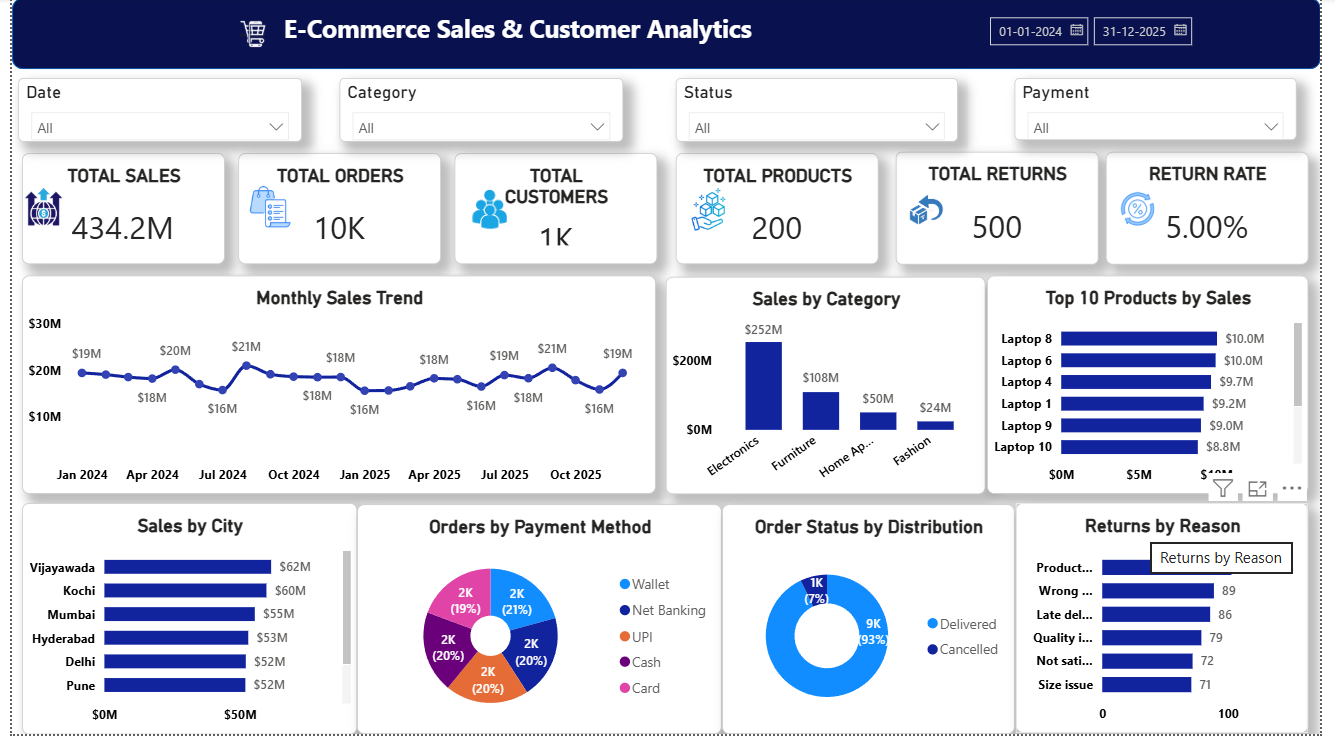

This screenshot's page, from the dashboard's own definition file:
{"tool":"powerbi","page":{"name":"Page 1","canvas":[1280,720],"ordinal":0},"visuals":[{"type":"shape","box":[0,0,1280.3,69.7],"z":0},{"type":"textbox","box":[80.7,8.6,827.9,48.9],"z":1000},{"type":"cardVisual","title":"TOTAL SALES","fields":{"Data":["sales_clean.Total sales"]},"box":[9.8,151.6,198.1,108.8],"z":2000},{"type":"cardVisual","title":"TOTAL ORDERS","fields":{"Data":["orders_clean.Total orders"]},"box":[221.3,151.6,198.1,108.8],"z":3000},{"type":"cardVisual","title":"TOTAL CUSTOMERS","fields":{"Data":["customers_clean.Total customers"]},"box":[432.9,151.6,198.1,108.8],"z":4000},{"type":"cardVisual","title":"TOTAL RETURNS","fields":{"Data":["returns_clean.Total returns"]},"box":[864.5,150.4,198.1,110.1],"z":5000},{"type":"cardVisual","title":"RETURN RATE","fields":{"Data":["sales_clean.Return rate"]},"box":[1070,150.4,198.1,110.1],"z":6000},{"type":"cardVisual","title":"TOTAL PRODUCTS","fields":{"Data":["products_clean.Total Products"]},"box":[649.3,151.6,198.1,108.8],"z":7000},{"type":"lineChart","title":"Monthly Sales Trend","fields":{"Category":["sales_clean.order_date.Variation.Date Hierarchy.Year","sales_clean.order_date.Variation.Date Hierarchy.Month"],"Y":["sales_clean.Total sales"]},"box":[10,271.2,620,213.8],"z":8000},{"type":"clusteredColumnChart","title":"Sales by  Category","fields":{"Category":["products_clean.category"],"Y":["sales_clean.Total sales"]},"box":[639.5,272.7,313,212.8],"z":8001},{"type":"clusteredBarChart","title":"Top 10 Products by Sales","fields":{"Category":["sales_clean.product_name"],"Y":["sales_clean.Total sales"]},"box":[953.8,271.5,314.3,214],"z":8002},{"type":"clusteredBarChart","title":"Sales by City","fields":{"Category":["customers_clean.city"],"Y":["sales_clean.Total sales"]},"box":[9.8,494,327.7,226.2],"z":8003},{"type":"donutChart","title":"Orders by Payment Method","fields":{"Category":["orders_clean.payment_method"],"Y":["orders_clean.Total orders"]},"box":[337.5,495.2,357.1,225],"z":8004},{"type":"donutChart","title":"Order Status by Distribution","fields":{"Category":["orders_clean.status"],"Y":["orders_clean.Total orders"]},"box":[694.6,495.2,286.1,225],"z":8005},{"type":"clusteredBarChart","title":" Returns by Reason","fields":{"Category":["returns_clean.reason"],"Y":["returns_clean.Total returns"]},"box":[981.9,494,286.1,225],"z":8006},{"type":"slicer","title":"Date","fields":{"Values":["orders_clean.order_date"]},"box":[6.1,78.3,277.6,62.4],"z":8007},{"type":"slicer","title":"Category","fields":{"Values":["products_clean.category"]},"box":[320.4,78.3,277.6,62.4],"z":8008},{"type":"slicer","title":"Status","fields":{"Values":["orders_clean.status"]},"box":[649.3,78.3,276.4,62.4],"z":8009},{"type":"slicer","title":"Payment","fields":{"Values":["orders_clean.payment_method"]},"box":[980.7,78.3,276.4,61.1],"z":8010},{"type":"slicer","fields":{"Values":["sales_clean.order_date"]},"box":[944,8.6,237.2,48.9],"z":8011},{"type":"image","box":[108.8,0,253.8,70],"z":8012},{"type":"image","box":[6.2,183.8,50,41.2],"z":8013},{"type":"image","box":[221.2,183.8,62.5,41.2],"z":8014},{"type":"image","box":[432.5,186.2,68.8,41.2],"z":8015},{"type":"image","box":[648.8,186.2,63.8,41.2],"z":8016},{"type":"image","box":[865,186.2,60,42.5],"z":8017},{"type":"image","box":[1070,190,62.5,33.8],"z":8018}]}

Visuals, with their boxes in screenshot pixels (x1, y1, x2, y2), scaled from the page's 1280x720 canvas onto the 1335x736 screenshot:
shape: pyautogui.locateOnScreen(0, 0, 1334, 71)
textbox: pyautogui.locateOnScreen(84, 9, 948, 59)
"TOTAL SALES" cardVisual: pyautogui.locateOnScreen(10, 155, 217, 266)
"TOTAL ORDERS" cardVisual: pyautogui.locateOnScreen(231, 155, 437, 266)
"TOTAL CUSTOMERS" cardVisual: pyautogui.locateOnScreen(452, 155, 658, 266)
"TOTAL RETURNS" cardVisual: pyautogui.locateOnScreen(902, 154, 1108, 266)
"RETURN RATE" cardVisual: pyautogui.locateOnScreen(1116, 154, 1323, 266)
"TOTAL PRODUCTS" cardVisual: pyautogui.locateOnScreen(677, 155, 884, 266)
"Monthly Sales Trend" lineChart: pyautogui.locateOnScreen(10, 277, 657, 496)
"Sales by  Category" clusteredColumnChart: pyautogui.locateOnScreen(667, 279, 993, 496)
"Top 10 Products by Sales" clusteredBarChart: pyautogui.locateOnScreen(995, 278, 1323, 496)
"Sales by City" clusteredBarChart: pyautogui.locateOnScreen(10, 505, 352, 735)
"Orders by Payment Method" donutChart: pyautogui.locateOnScreen(352, 506, 724, 735)
"Order Status by Distribution" donutChart: pyautogui.locateOnScreen(724, 506, 1023, 735)
" Returns by Reason" clusteredBarChart: pyautogui.locateOnScreen(1024, 505, 1322, 735)
"Date" slicer: pyautogui.locateOnScreen(6, 80, 296, 144)
"Category" slicer: pyautogui.locateOnScreen(334, 80, 624, 144)
"Status" slicer: pyautogui.locateOnScreen(677, 80, 965, 144)
"Payment" slicer: pyautogui.locateOnScreen(1023, 80, 1311, 142)
slicer - sales_clean.order_date: pyautogui.locateOnScreen(985, 9, 1232, 59)
image: pyautogui.locateOnScreen(113, 0, 378, 72)
image: pyautogui.locateOnScreen(6, 188, 59, 230)
image: pyautogui.locateOnScreen(231, 188, 296, 230)
image: pyautogui.locateOnScreen(451, 190, 523, 232)
image: pyautogui.locateOnScreen(677, 190, 743, 232)
image: pyautogui.locateOnScreen(902, 190, 965, 234)
image: pyautogui.locateOnScreen(1116, 194, 1181, 229)
